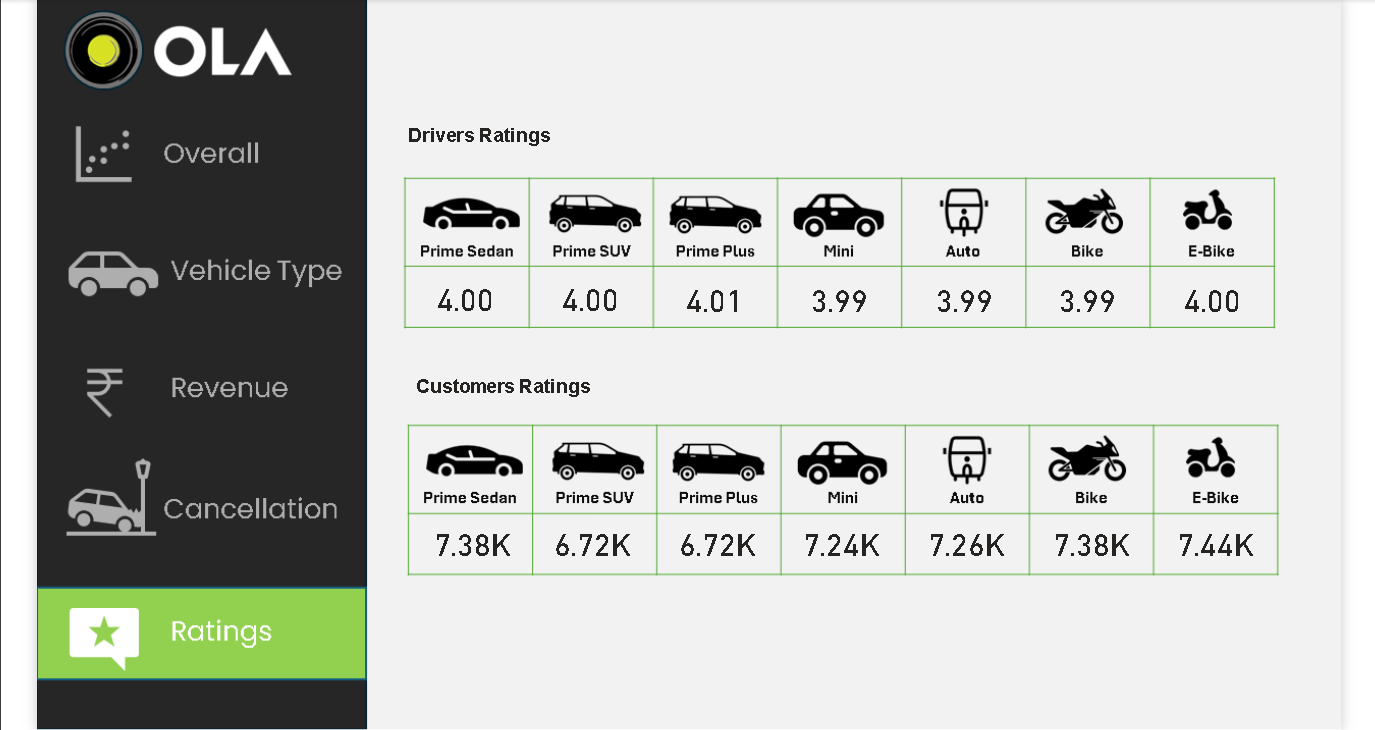

Layout of this report page (visuals, bound fields, positions):
{"tool":"powerbi","page":{"name":"Ratings","canvas":[1280,720],"ordinal":4},"visuals":[{"type":"actionButton","box":[0,577.9,322.7,88.3],"z":0},{"type":"actionButton","box":[1.2,336.2,322.7,88.3],"z":1000},{"type":"actionButton","box":[1.2,444.2,322.7,88.3],"z":2000},{"type":"actionButton","box":[0,212.3,322.7,88.3],"z":3000},{"type":"actionButton","box":[0,111.7,322.7,89.6],"z":4000},{"type":"card","fields":{"Values":["Avg(July (2).Driver_Ratings)"]},"box":[359.3,262.7,122.3,61.9],"z":5000},{"type":"card","fields":{"Values":["Avg(July (2).Driver_Ratings)"]},"box":[481.6,262.7,122.3,61.9],"z":6000},{"type":"card","fields":{"Values":["Avg(July (2).Driver_Ratings)"]},"box":[603.9,264.2,122.3,61.9],"z":7000},{"type":"card","fields":{"Values":["Avg(July (2).Driver_Ratings)"]},"box":[726.2,264.2,122.3,61.9],"z":8000},{"type":"card","fields":{"Values":["Avg(July (2).Driver_Ratings)"]},"box":[848.5,264.2,122.3,61.9],"z":9000},{"type":"card","fields":{"Values":["Avg(July (2).Driver_Ratings)"]},"box":[970.8,264.2,122.3,61.9],"z":10000},{"type":"card","fields":{"Values":["Avg(July (2).Driver_Ratings)"]},"box":[1093.1,264.2,122.3,61.9],"z":11000},{"type":"textbox","box":[359.3,117.8,172.1,39.3],"z":12000},{"type":"textbox","box":[366.9,363.9,200.8,33.2],"z":13000},{"type":"card","fields":{"Values":["Sum(July (2).Customer_Rating)"]},"box":[366.9,502.8,122.3,61.9],"z":14000},{"type":"card","fields":{"Values":["Sum(July (2).Customer_Rating)"]},"box":[484.6,502.8,122.3,61.9],"z":15000},{"type":"card","fields":{"Values":["Sum(July (2).Customer_Rating)"]},"box":[606.9,502.8,122.3,61.9],"z":16000},{"type":"card","fields":{"Values":["Sum(July (2).Customer_Rating)"]},"box":[729.2,502.8,122.3,61.9],"z":17000},{"type":"card","fields":{"Values":["Sum(July (2).Customer_Rating)"]},"box":[851.5,502.8,122.3,61.9],"z":18000},{"type":"card","fields":{"Values":["Sum(July (2).Customer_Rating)"]},"box":[973.8,502.8,122.3,61.9],"z":19000},{"type":"card","fields":{"Values":["Sum(July (2).Customer_Rating)"]},"box":[1096.1,502.8,122.3,61.9],"z":20000}]}

Visuals, with their boxes on the page's 1280x720 design canvas (x1, y1, x2, y2). These are canvas units, not pixel positions in the 1375x730 screenshot, which may show the page scaled, cropped or inside an application window:
actionButton: (left=0, top=578, right=323, bottom=666)
actionButton: (left=1, top=336, right=324, bottom=424)
actionButton: (left=1, top=444, right=324, bottom=532)
actionButton: (left=0, top=212, right=323, bottom=301)
actionButton: (left=0, top=112, right=323, bottom=201)
card - Avg(July (2).Driver_Ratings): (left=359, top=263, right=482, bottom=325)
card - Avg(July (2).Driver_Ratings): (left=482, top=263, right=604, bottom=325)
card - Avg(July (2).Driver_Ratings): (left=604, top=264, right=726, bottom=326)
card - Avg(July (2).Driver_Ratings): (left=726, top=264, right=848, bottom=326)
card - Avg(July (2).Driver_Ratings): (left=848, top=264, right=971, bottom=326)
card - Avg(July (2).Driver_Ratings): (left=971, top=264, right=1093, bottom=326)
card - Avg(July (2).Driver_Ratings): (left=1093, top=264, right=1215, bottom=326)
textbox: (left=359, top=118, right=531, bottom=157)
textbox: (left=367, top=364, right=568, bottom=397)
card - Sum(July (2).Customer_Rating): (left=367, top=503, right=489, bottom=565)
card - Sum(July (2).Customer_Rating): (left=485, top=503, right=607, bottom=565)
card - Sum(July (2).Customer_Rating): (left=607, top=503, right=729, bottom=565)
card - Sum(July (2).Customer_Rating): (left=729, top=503, right=852, bottom=565)
card - Sum(July (2).Customer_Rating): (left=852, top=503, right=974, bottom=565)
card - Sum(July (2).Customer_Rating): (left=974, top=503, right=1096, bottom=565)
card - Sum(July (2).Customer_Rating): (left=1096, top=503, right=1218, bottom=565)
